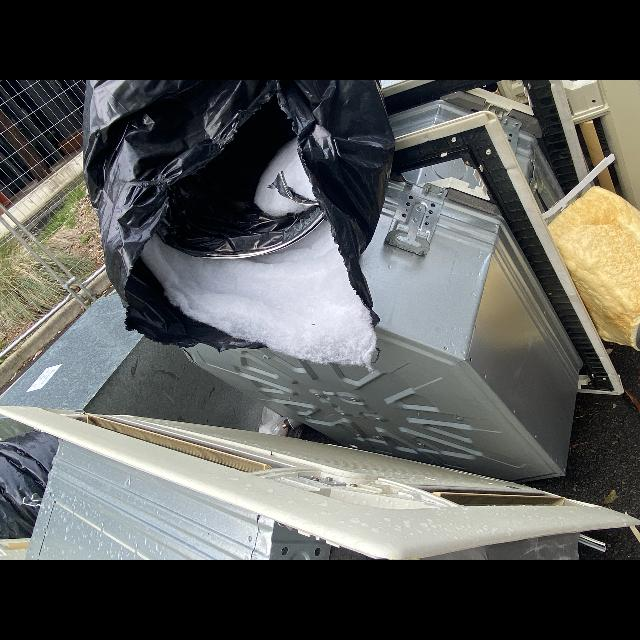Copper: (282, 424, 286, 428)
Galvanized Steel: (359, 179, 583, 482), (22, 439, 331, 560), (0, 294, 263, 431), (501, 116, 564, 210), (425, 534, 579, 560), (390, 100, 475, 137), (403, 158, 479, 188), (0, 415, 34, 440)
